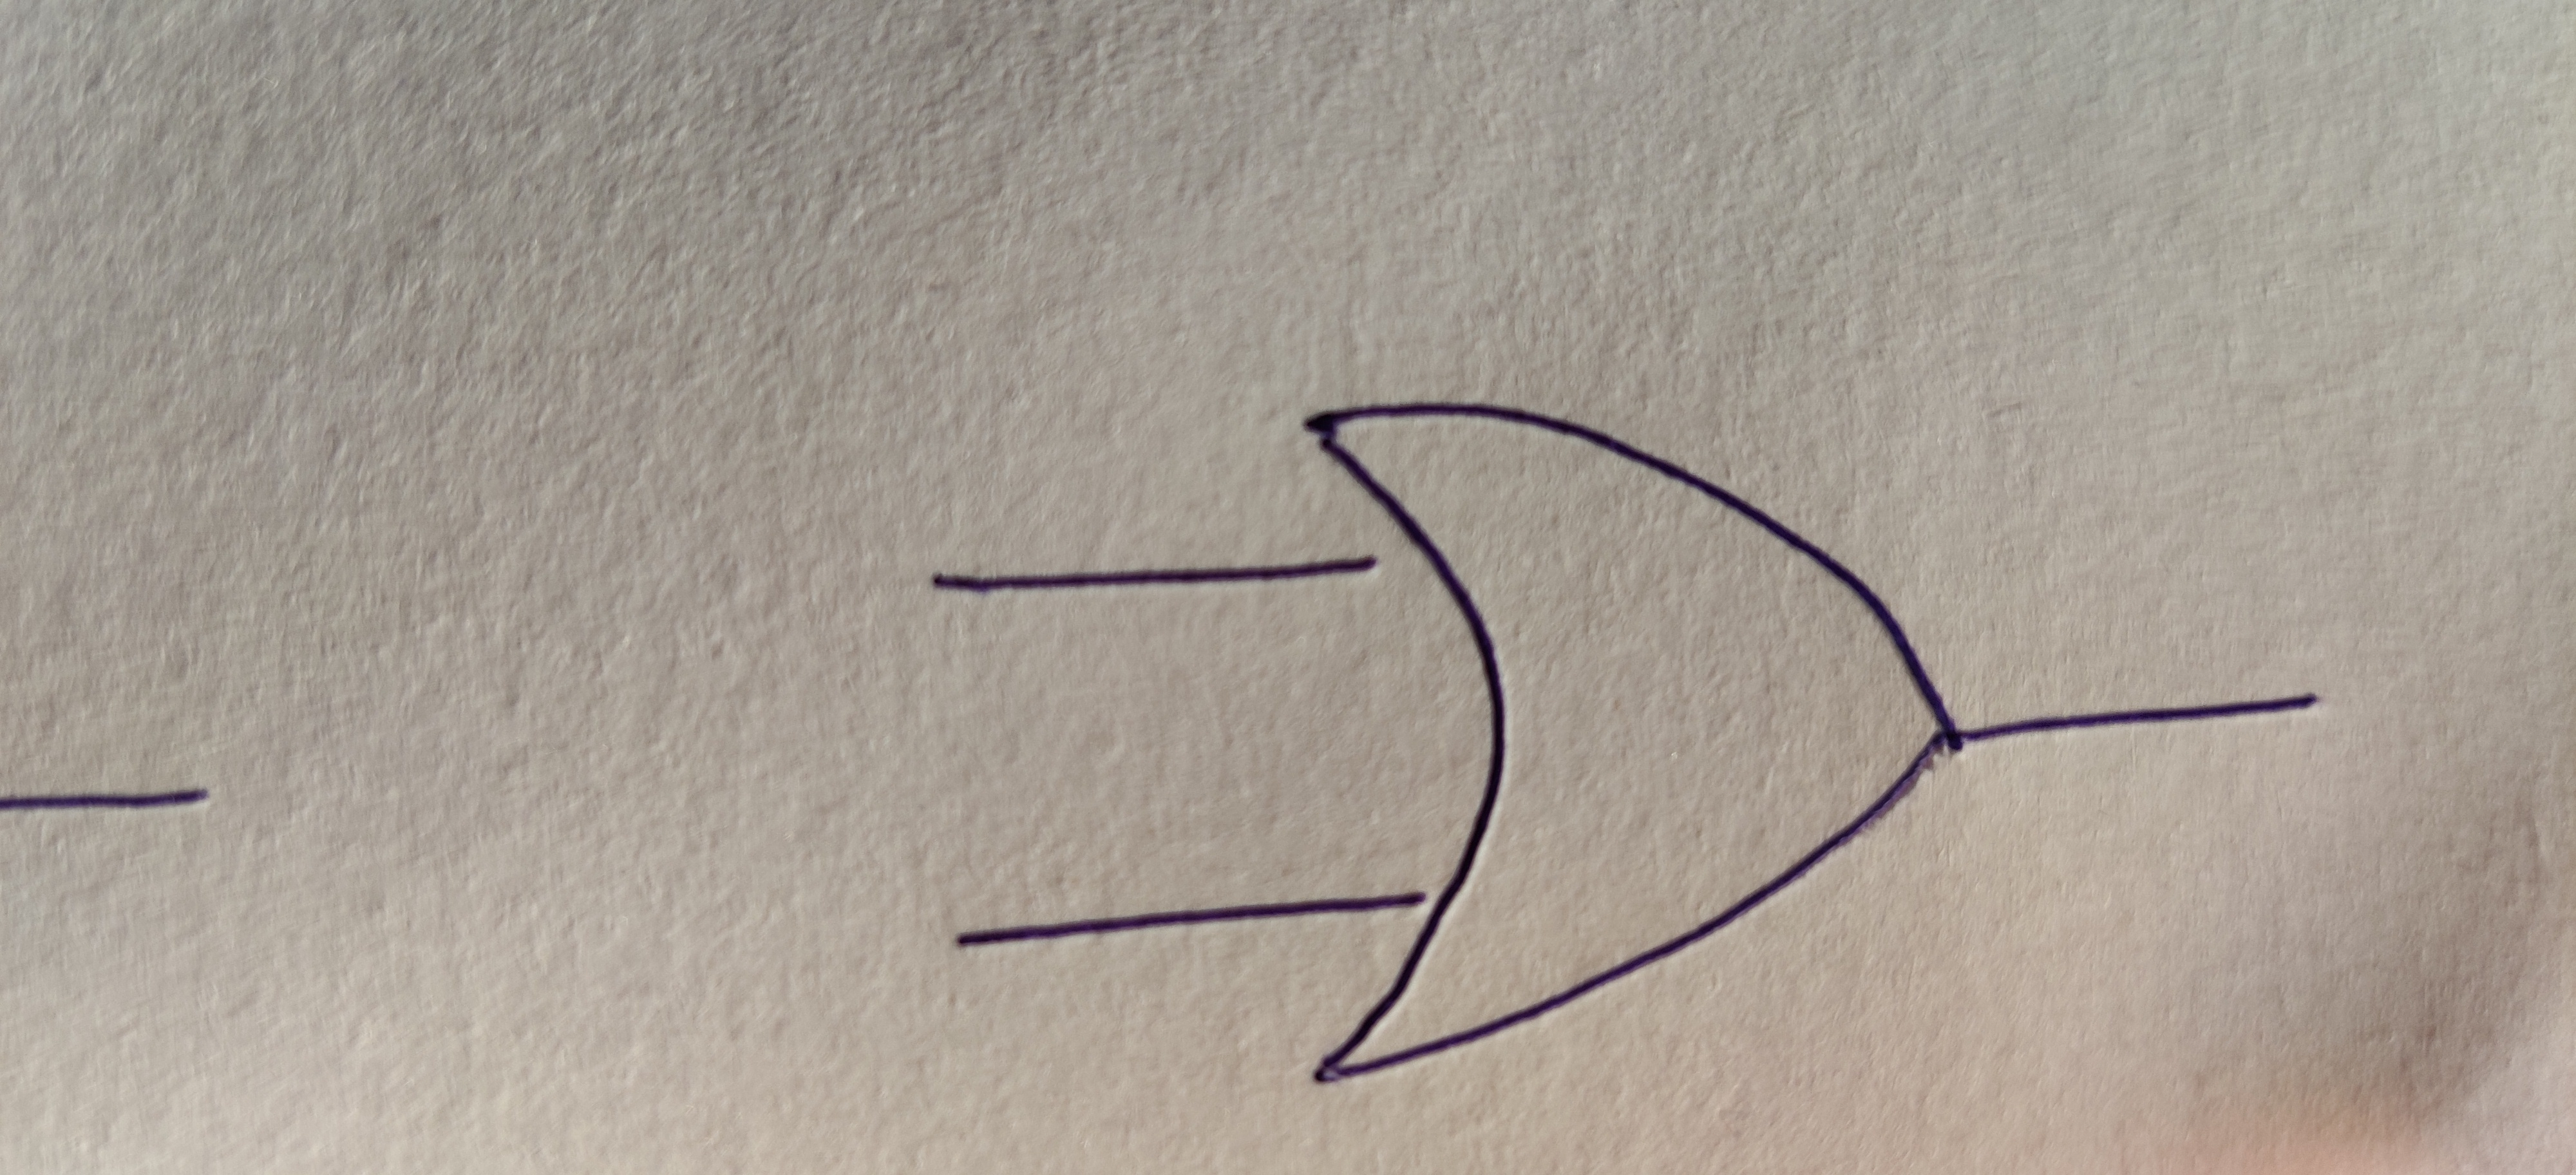or: (1313, 403, 1958, 1091)
